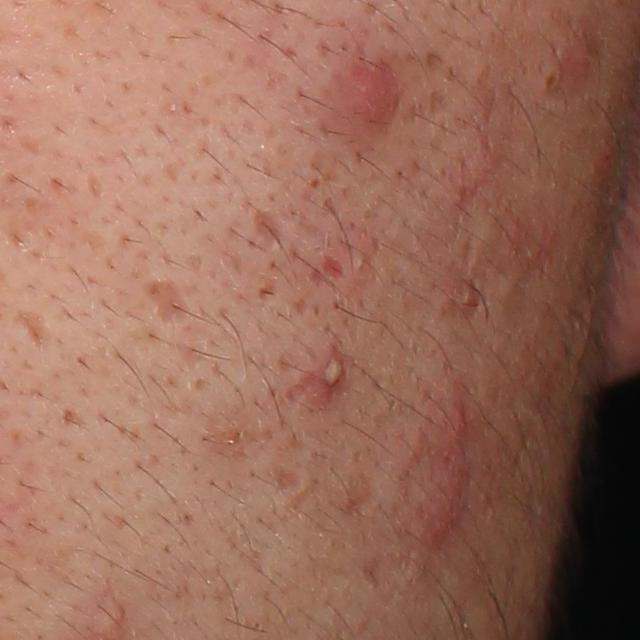atrophic_scar: (357, 543, 418, 597), (143, 274, 198, 331), (280, 370, 335, 417), (335, 471, 380, 523), (15, 309, 59, 357), (452, 233, 480, 307), (249, 203, 285, 252), (268, 459, 303, 495)
comedo: (542, 68, 561, 92), (305, 175, 324, 191)
papule: (333, 61, 410, 141), (407, 469, 468, 550), (451, 402, 471, 438)
pustule: (312, 348, 346, 392)
